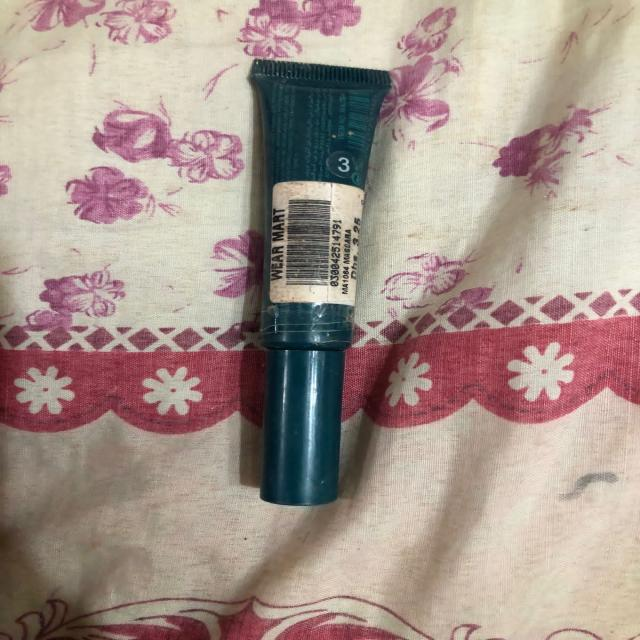bb cream: (209, 55, 406, 519)
